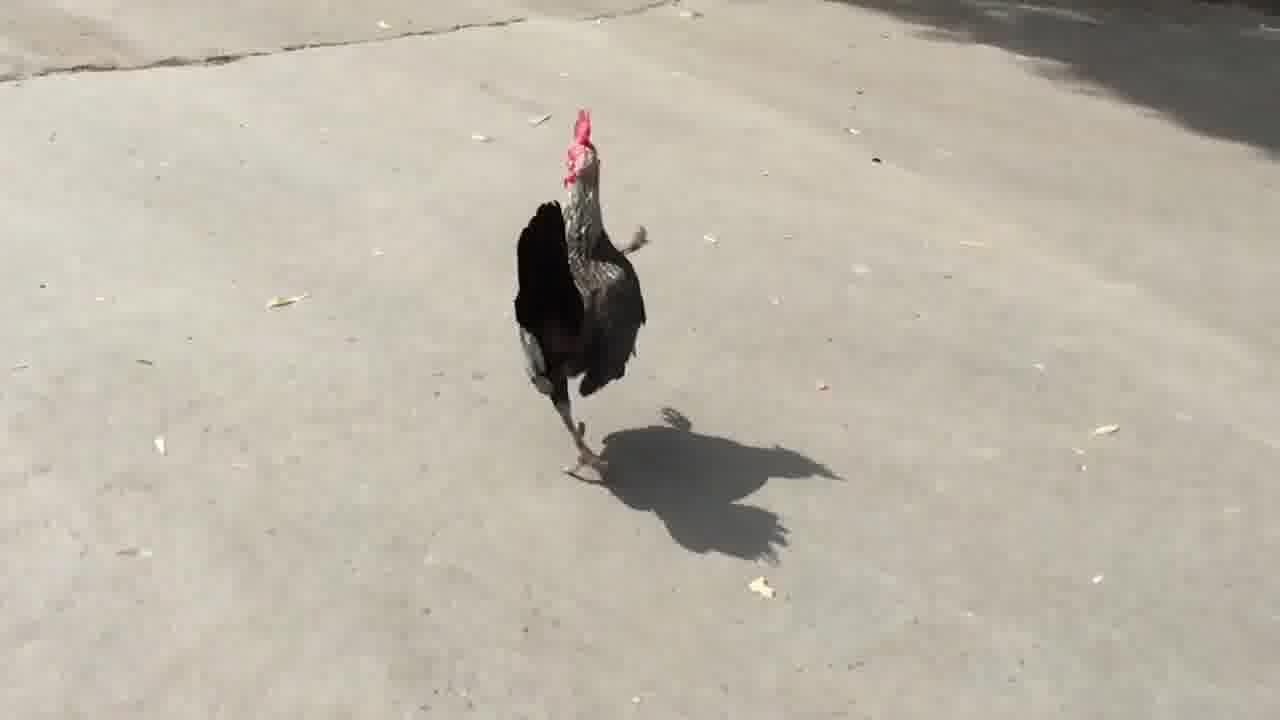Normal: (496, 104, 674, 478)
